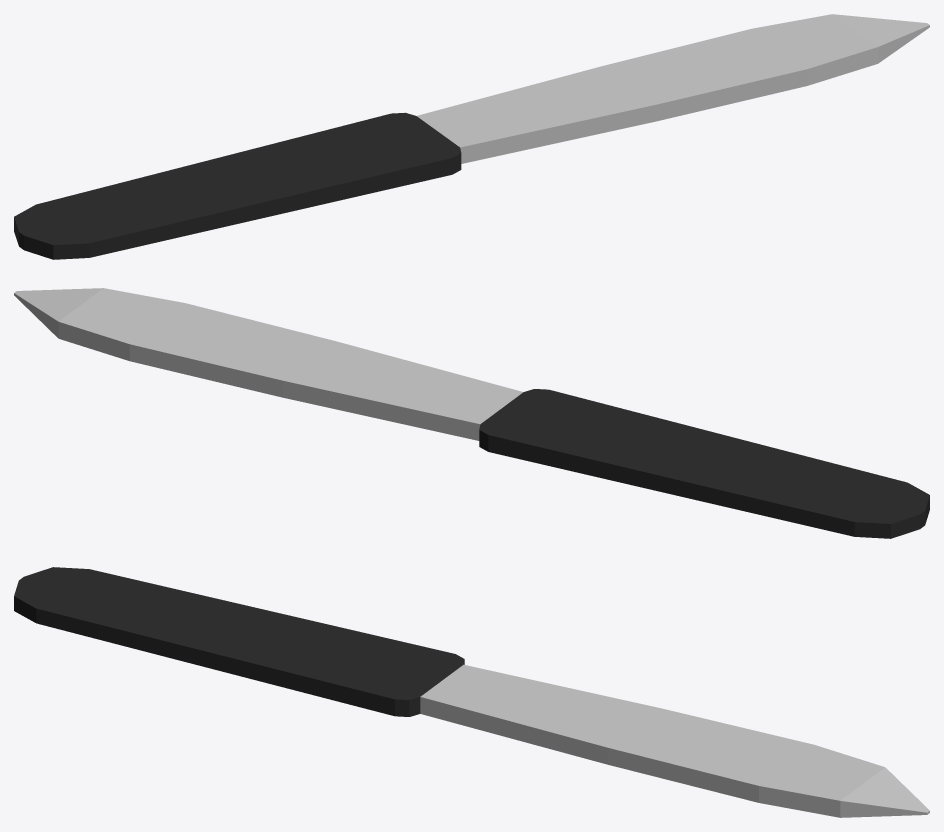
File: Knife.fbx
3 renders of one model, top to bottom at view 1: azimuth 30°, elevation 25°; view 2: azimuth 150°, elevation 25°; view 3: azimuth 330°, elevation 25°, orthographic.
Visible parts, largest first — view 1: Knife; view 2: Knife; view 3: Knife.
Part boxes in pixels (box(x1,y1,x2,y2)): Knife: box(14, 14, 929, 259); Knife: box(14, 288, 929, 538); Knife: box(14, 567, 929, 817).
Bounding box in the file's own units: 0.1442 × 0.00257 × 0.0169.
